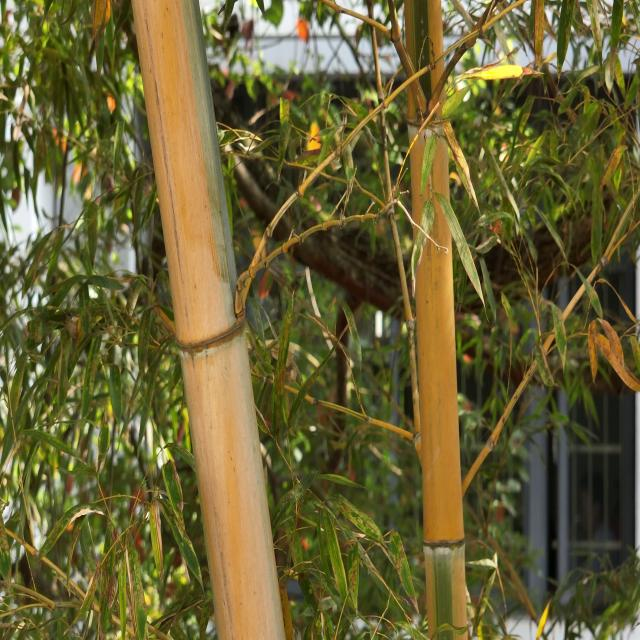Bamboo-shoots: (132, 0, 285, 640), (407, 0, 468, 640)
